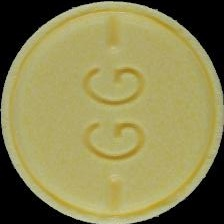68258-7077: (0, 0, 224, 224)
